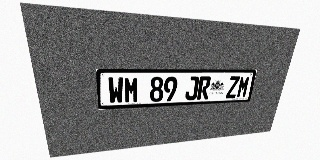8: (150, 77, 164, 102)
9: (163, 77, 178, 101)
J: (185, 76, 199, 100)
M: (124, 77, 139, 103), (236, 76, 251, 98)
R: (197, 76, 211, 100)
W: (107, 77, 124, 104)
Z: (226, 76, 240, 98)
